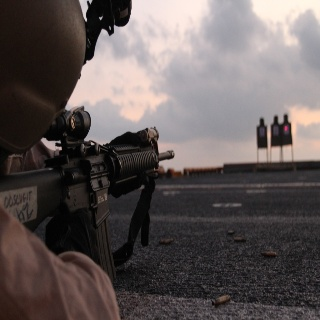rifle: (1, 106, 176, 285)
